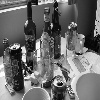beer: (22, 1, 39, 60)
